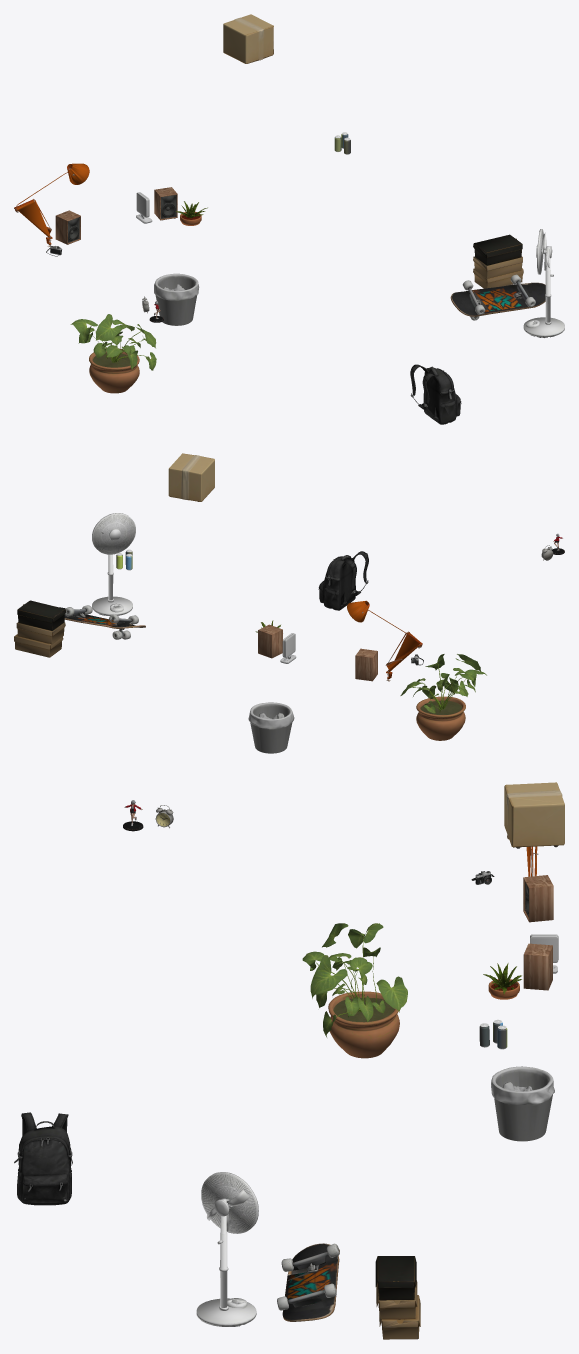
Rendered from props_tripo2.glb.
3 views of the same model, one above another, from view 1: azimuth 30°, elevation 25°; view 2: azimuth 150°, elevation 25°; view 3: azimuth 270°, elevation 25° (orthographic). The views are drawn at different scales.
Parts seen in each view (by area): view 1: object 2, T2_lamp; view 2: object 2, T2_lamp; view 3: object 2.
Boxes of the visible parts, x1,y1,x2,y2 form: object 2: [46, 14, 564, 424]; T2_lamp: [14, 163, 89, 246]; object 2: [14, 453, 564, 753]; T2_lamp: [347, 600, 422, 681]; object 2: [14, 782, 564, 1339].
Bounding box in the file's own units: 3.91 × 2.22 × 2.83.
1 material, 1 textured.
